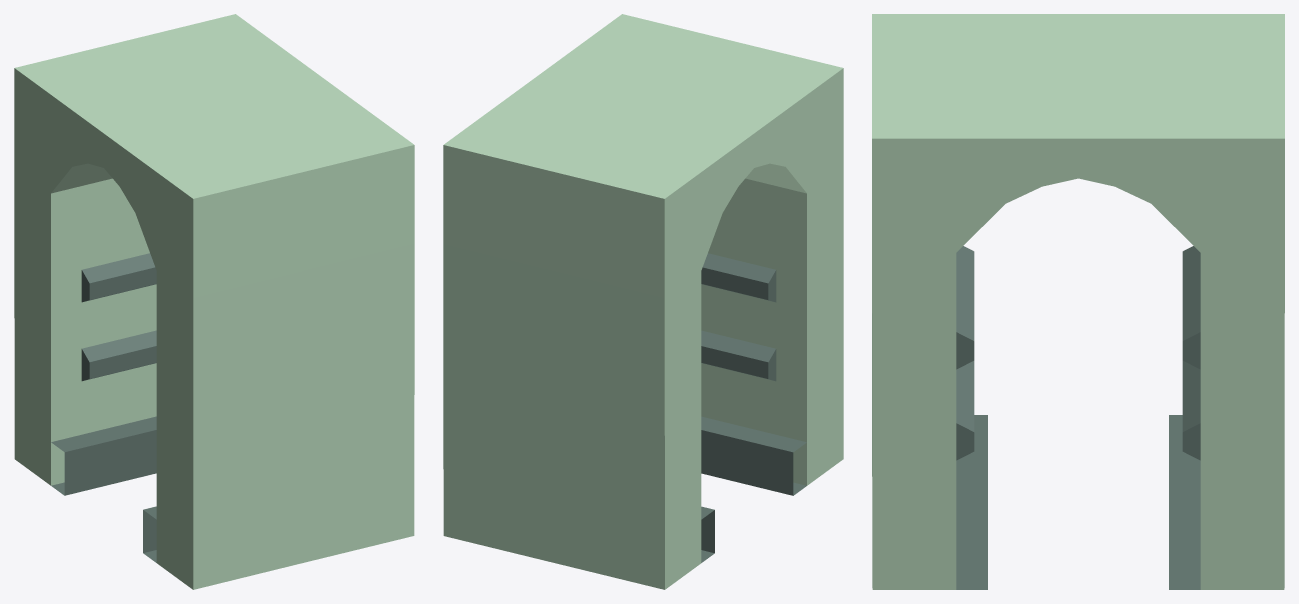
File: Bridge1MeterMiddlePiece.fbx
3 renders of one model, left to right at view 1: azimuth 30°, elevation 25°; view 2: azimuth 150°, elevation 25°; view 3: azimuth 270°, elevation 25°, orthographic. The views are drawn at different scales.
Visible parts, largest first — view 1: Bridge1MeterMiddlePiece; view 2: Bridge1MeterMiddlePiece; view 3: Bridge1MeterMiddlePiece.
Part boxes in pixels (bbox=[...]): Bridge1MeterMiddlePiece: bbox=[14, 14, 414, 589]; Bridge1MeterMiddlePiece: bbox=[443, 14, 843, 589]; Bridge1MeterMiddlePiece: bbox=[872, 14, 1284, 589].
Size of the model in its own units: 0.7159 by 1.21 by 1.
